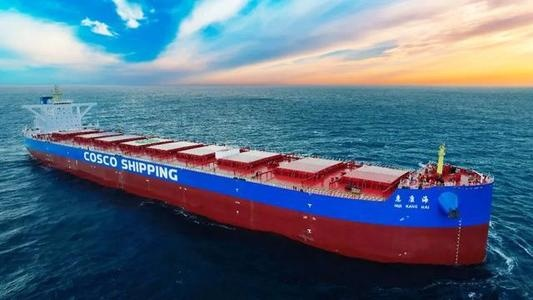Cargoship: (17, 81, 497, 269)
